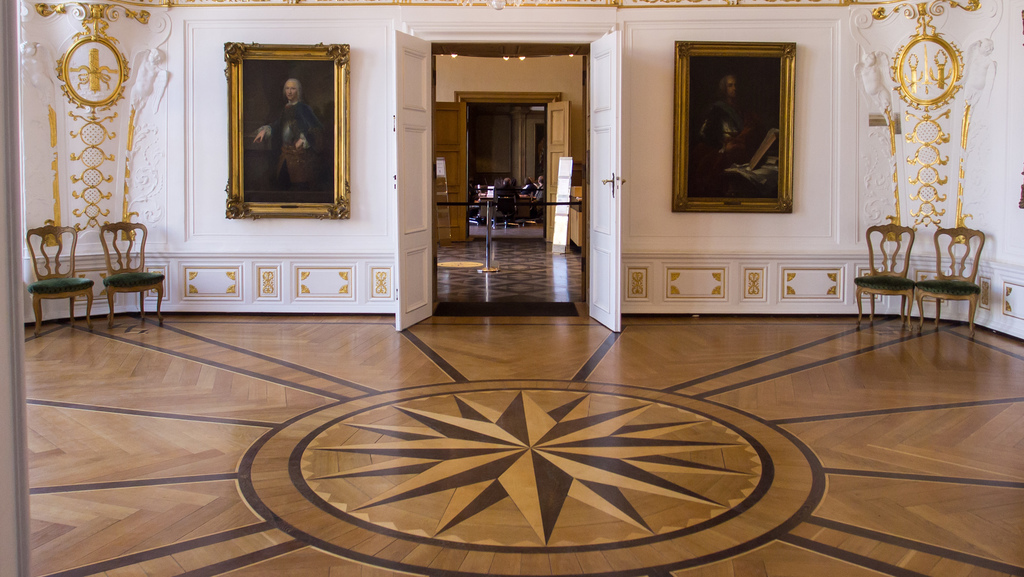Chair: (27, 223, 97, 332), (852, 222, 918, 335), (922, 224, 984, 343), (96, 220, 163, 318), (496, 189, 520, 232)
